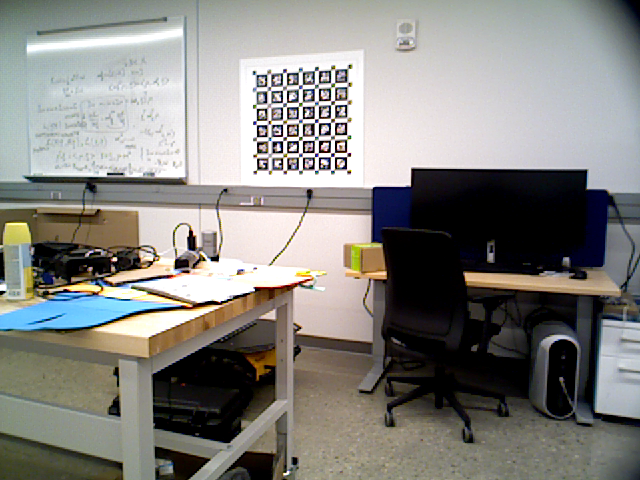painting4: (241, 50, 365, 187)
